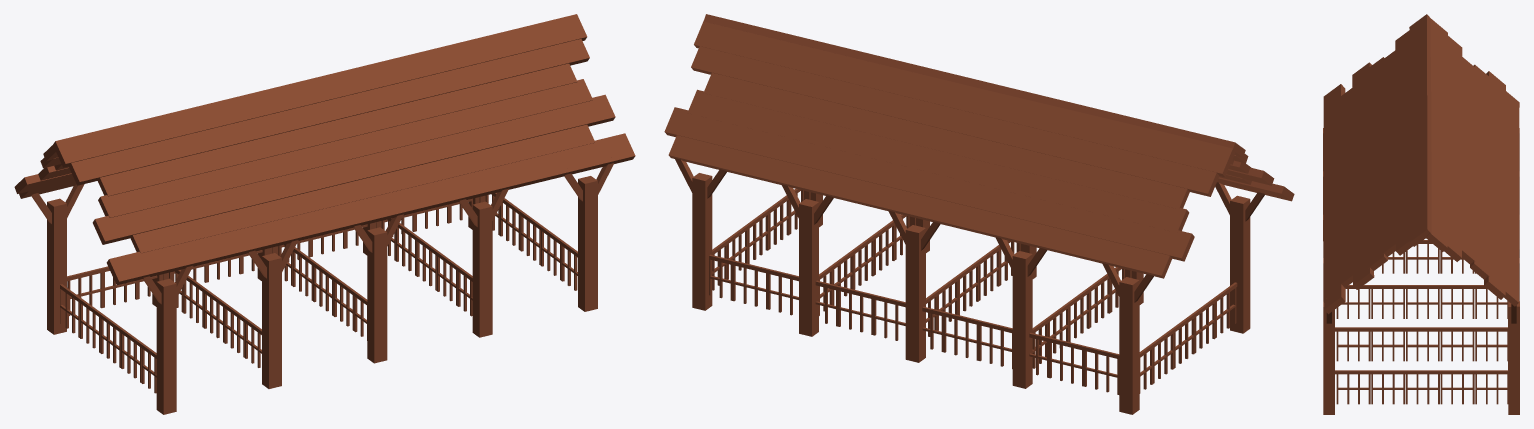
File: Stall_Einzelobjekt.fbx
The picture shows the model from 3 angles, left to right: view 1: azimuth 30°, elevation 25°; view 2: azimuth 150°, elevation 25°; view 3: azimuth 270°, elevation 25°; orthographic projection. The views are drawn at different scales.
Parts seen in each view (by area): view 1: Cube.027; view 2: Cube.027; view 3: Cube.027.
Part boxes in pixels (left/top/right/bottom): Cube.027: left=14, top=14, right=635, bottom=414; Cube.027: left=664, top=14, right=1294, bottom=414; Cube.027: left=1323, top=14, right=1519, bottom=414.
Size of the model in its own units: 883 by 388 by 341.
